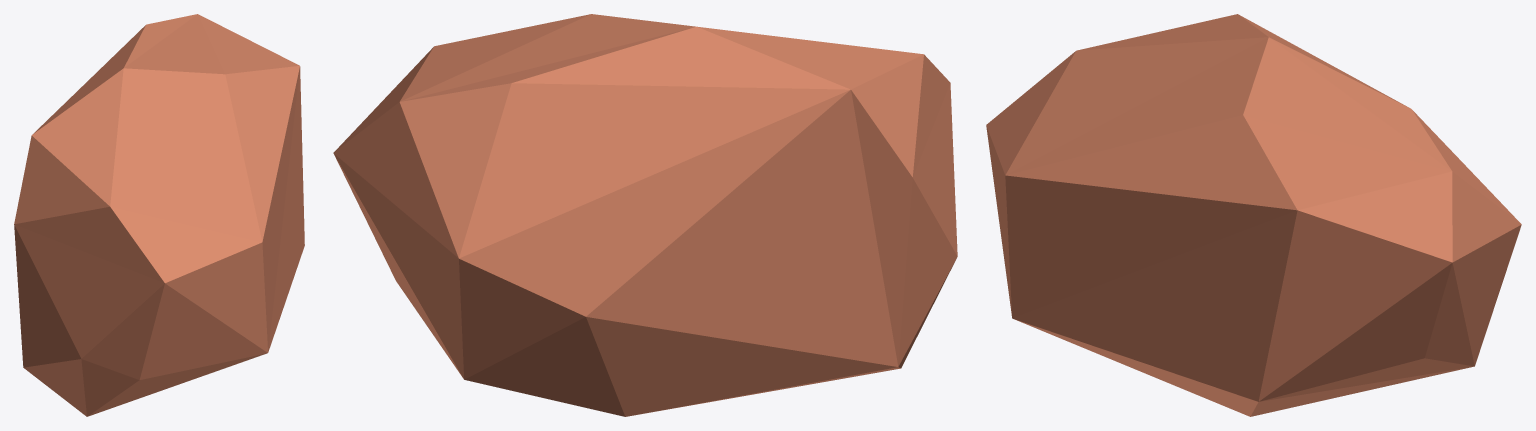
File: Rock_03.fbx
The picture shows the model from 3 angles, left to right: view 1: azimuth 30°, elevation 25°; view 2: azimuth 150°, elevation 25°; view 3: azimuth 270°, elevation 25°; orthographic projection. The views are drawn at different scales.
Parts seen in each view (by area): view 1: Rock_03; view 2: Rock_03; view 3: Rock_03.
Part boxes in pixels (x1,y1,x2,y2): Rock_03: (14, 14, 304, 416); Rock_03: (333, 14, 957, 416); Rock_03: (986, 14, 1521, 416).
Bounding box in the file's own units: 1.58 × 1.26 × 1.81.
